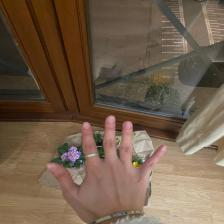five: (45, 114, 169, 218)
